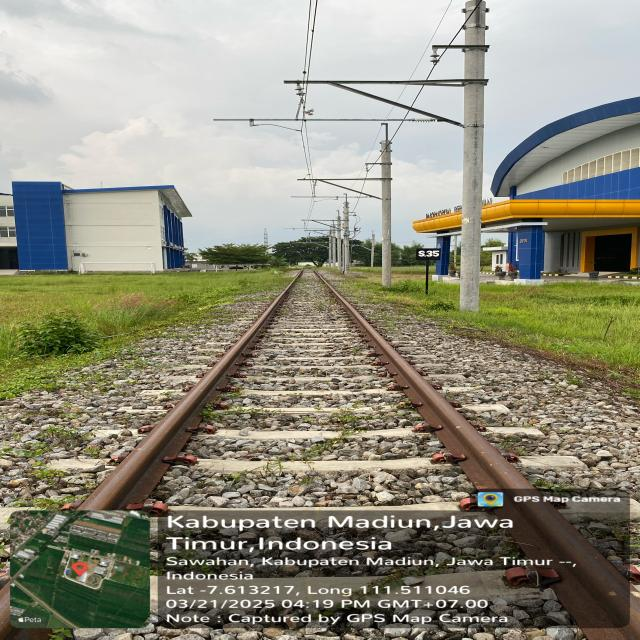rail-detection: (317, 272, 632, 630), (81, 271, 301, 509)
